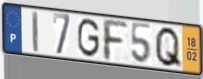5: (129, 21, 153, 67)
7: (52, 11, 72, 58)
F: (100, 17, 130, 63)
G: (76, 17, 101, 59)
I: (31, 10, 40, 55)
Q: (154, 25, 184, 70)
